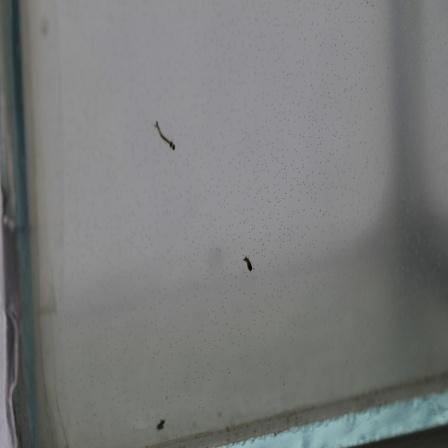Jentik-Nyamuk: (153, 119, 178, 155), (239, 248, 258, 279), (153, 417, 169, 433)
